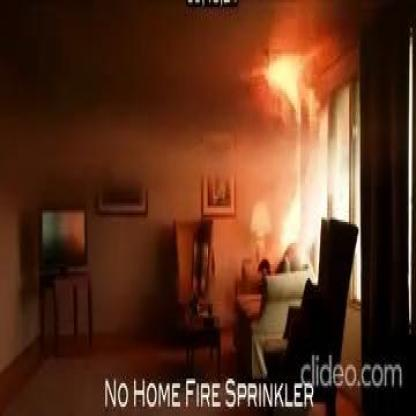fire: (262, 47, 302, 124), (280, 178, 300, 243)
